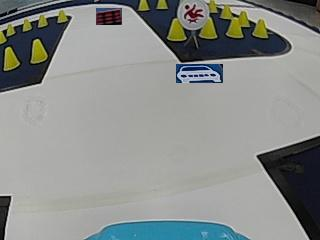cone: (167, 18, 186, 42), (29, 39, 46, 63), (226, 17, 243, 38), (3, 47, 18, 70), (200, 19, 217, 39), (253, 18, 268, 38), (220, 4, 232, 19), (238, 9, 248, 27), (37, 14, 48, 28), (57, 9, 67, 23), (22, 18, 32, 32), (6, 23, 15, 37), (138, 0, 149, 11), (209, 0, 217, 13), (156, 0, 167, 9), (0, 30, 6, 44)
tumble: (179, 1, 208, 26)
